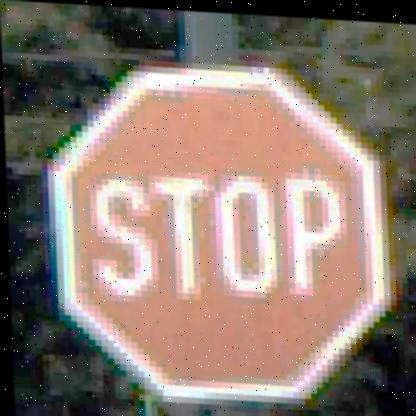Stop Sign: (46, 58, 391, 410)
